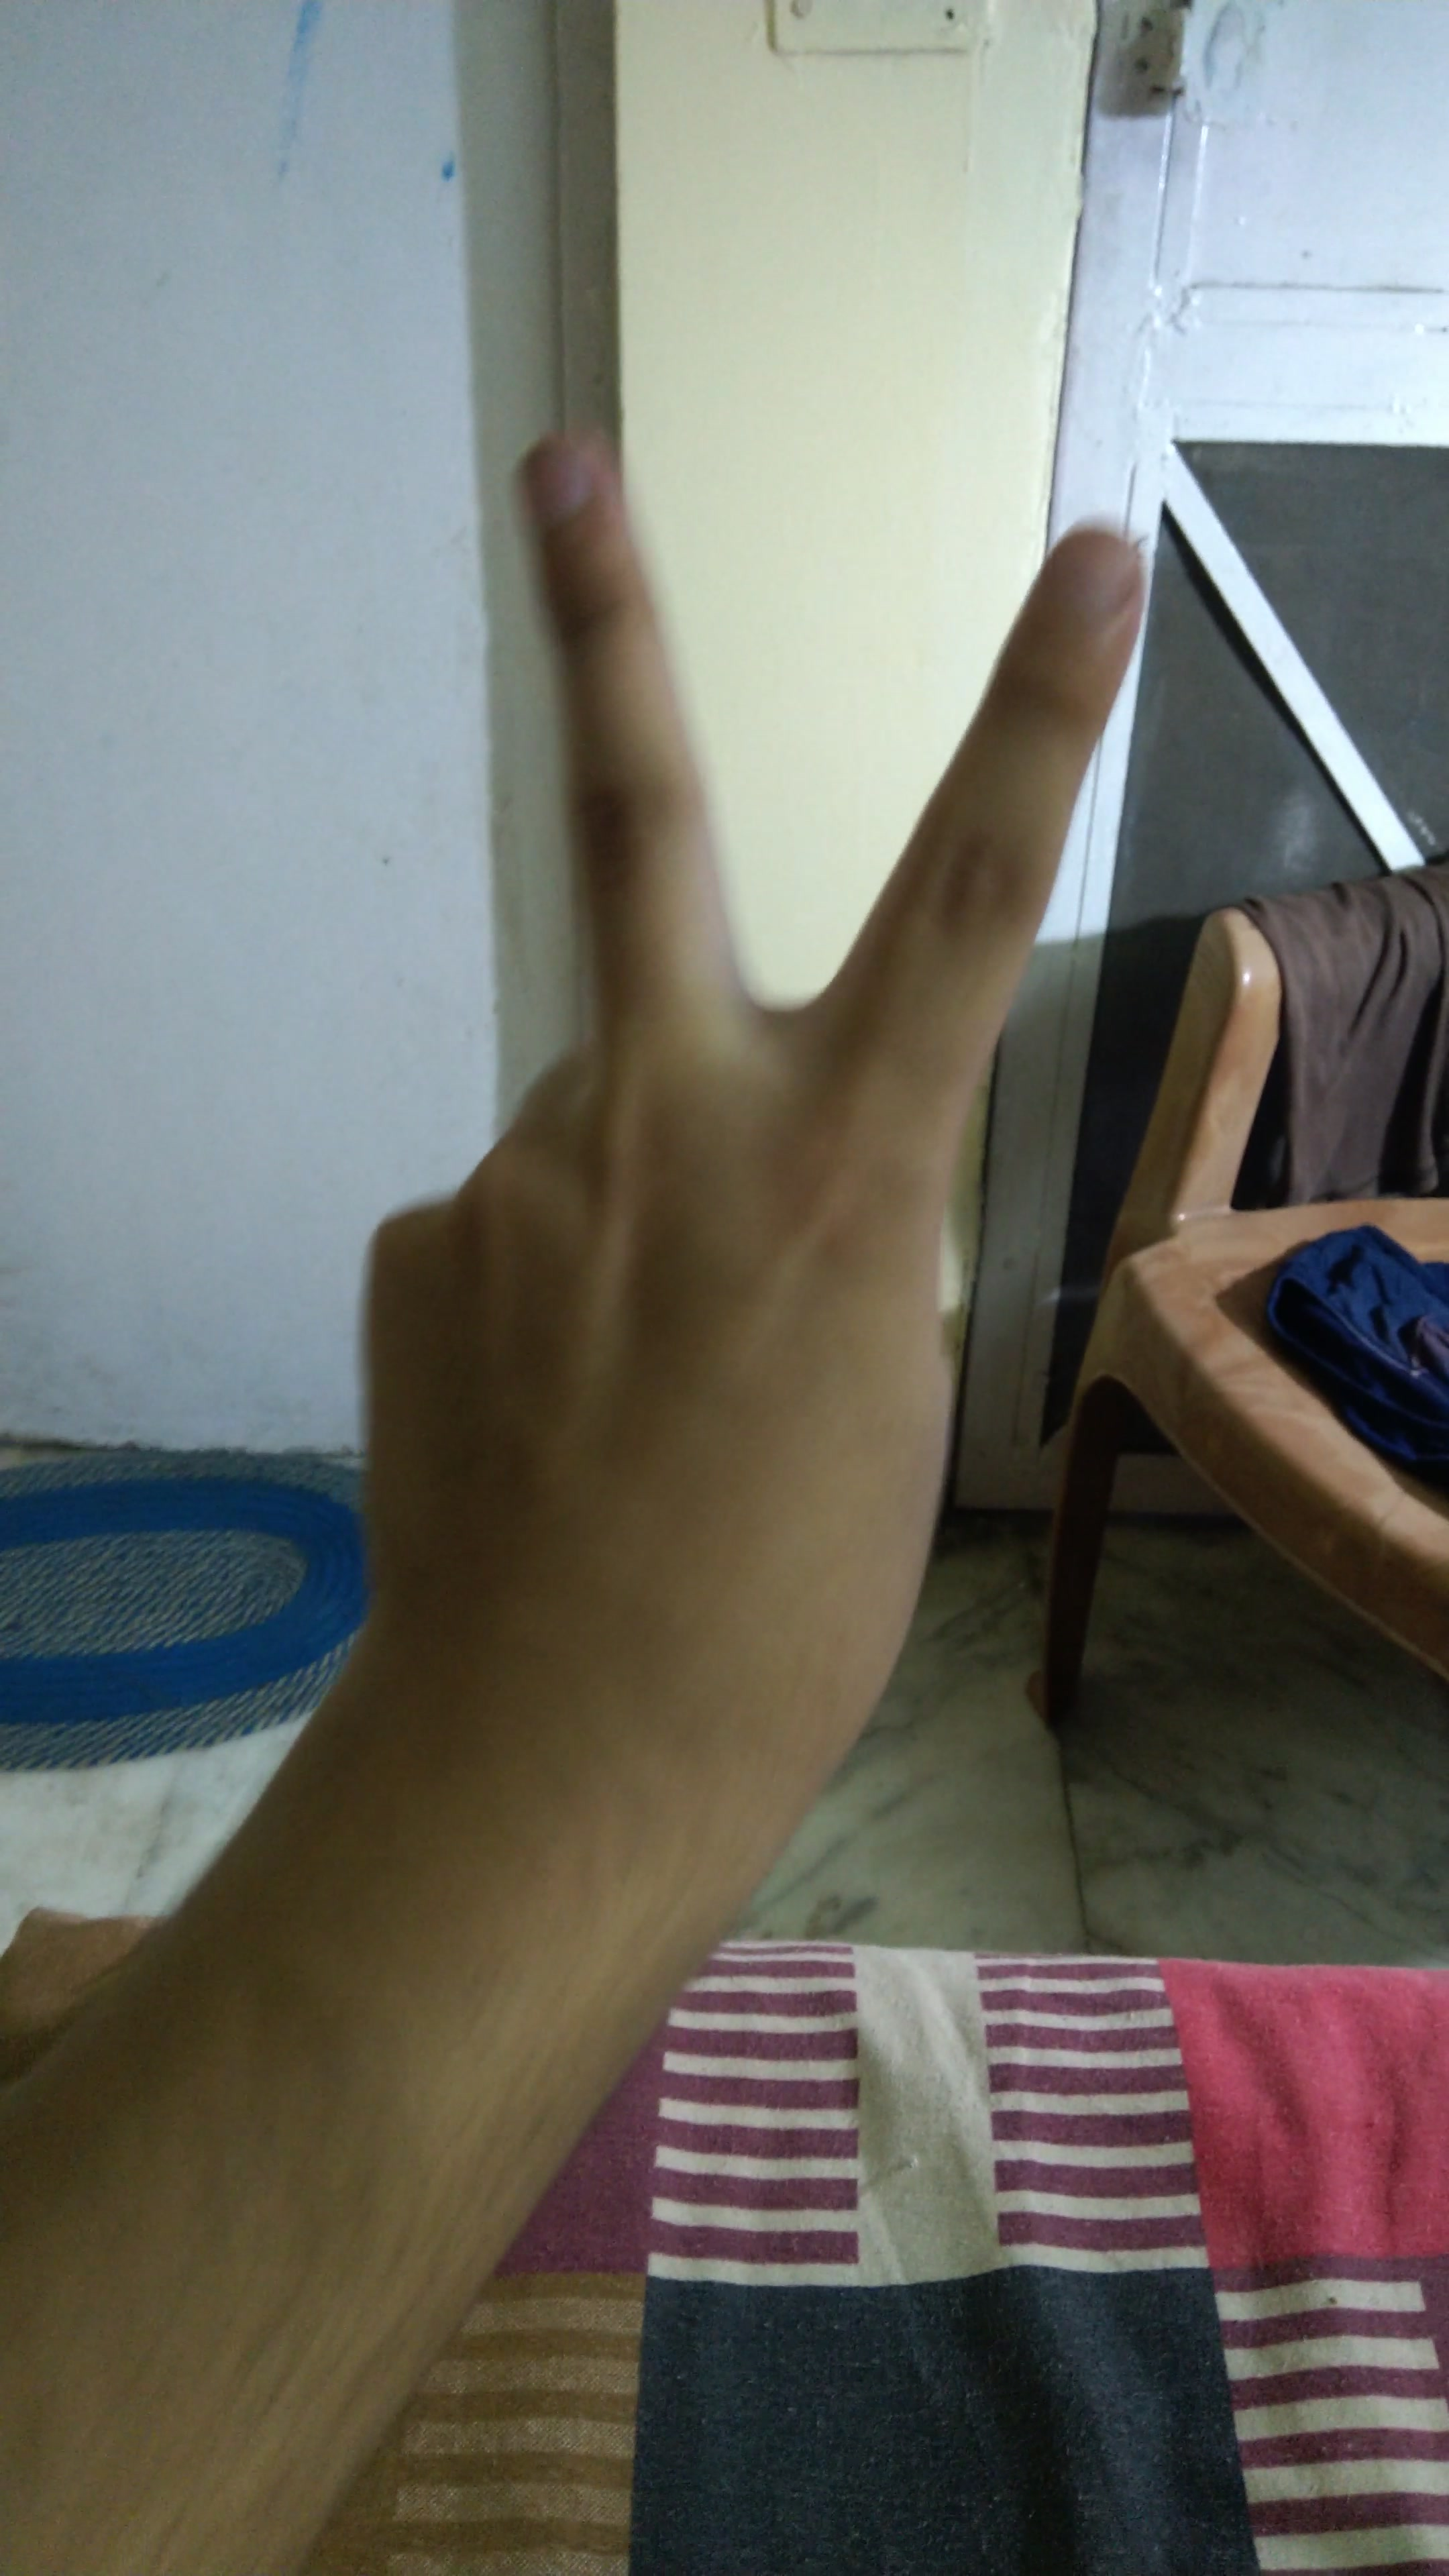hand: (186, 393, 1154, 1923)
